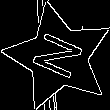N_SE: (27, 28, 90, 86)
